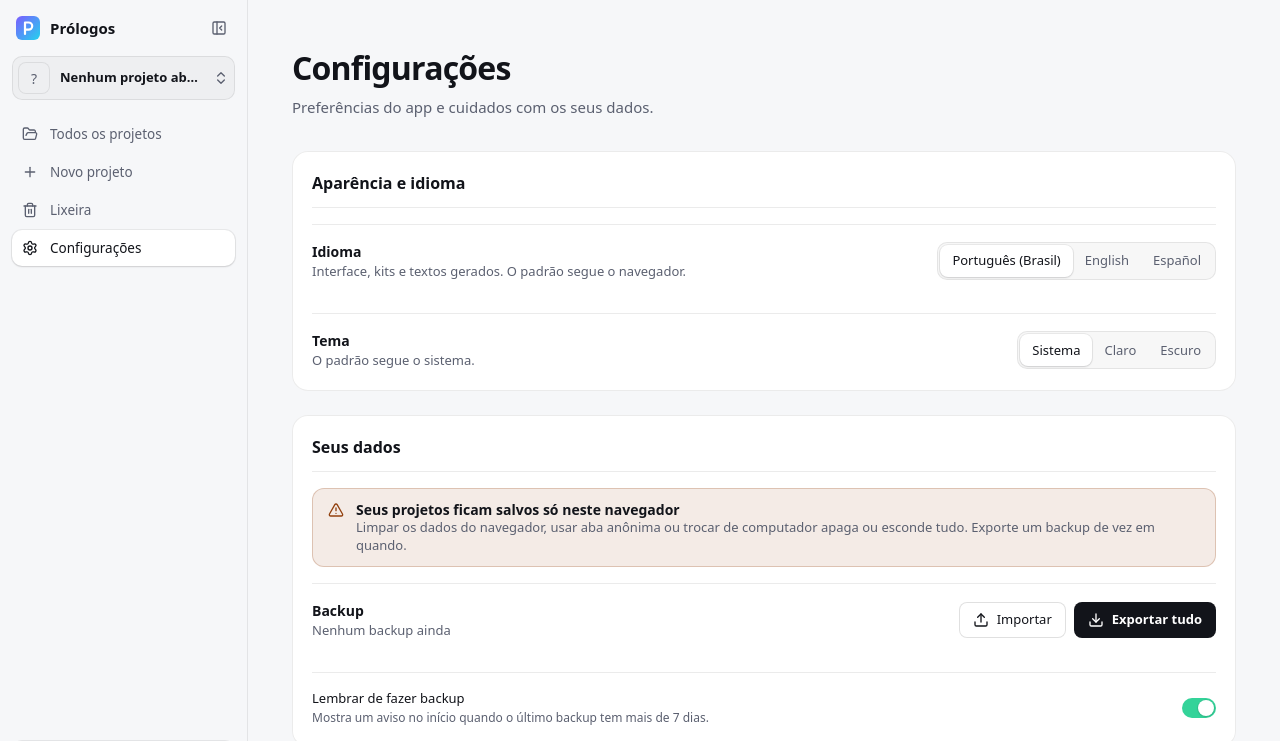
settings (RN 17, 18) › switches language live
Click the radio button labelled "English" at {"x": 1107, "y": 261}, box x1=1073 y1=245 x2=1141 y2=277
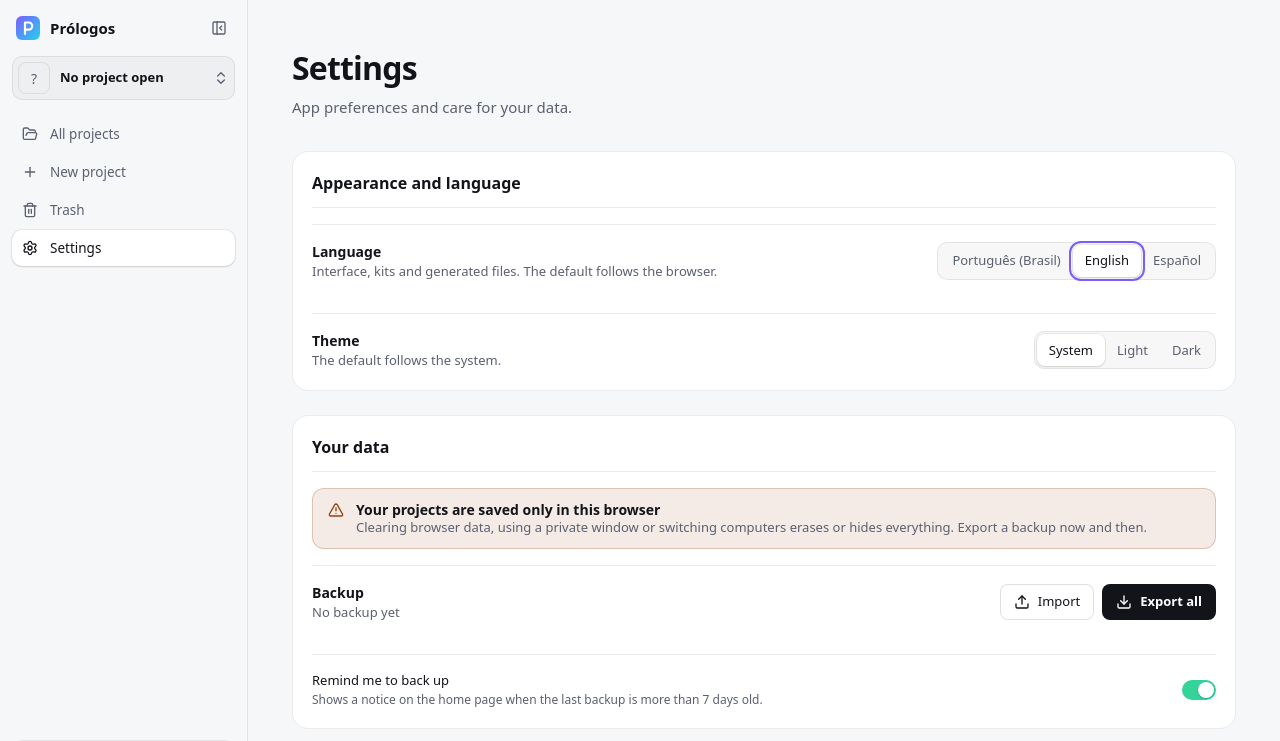
Now the heading "Settings" is shown, box x1=292 y1=46 x2=417 y2=89
